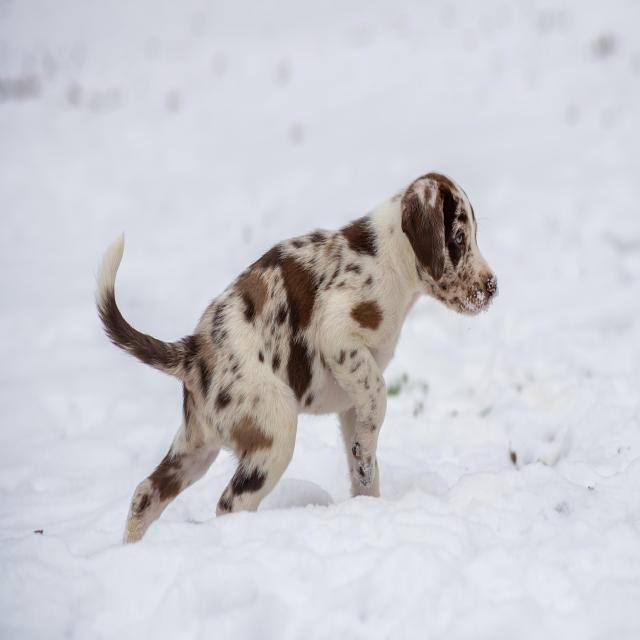dog: (94, 173, 498, 544)
